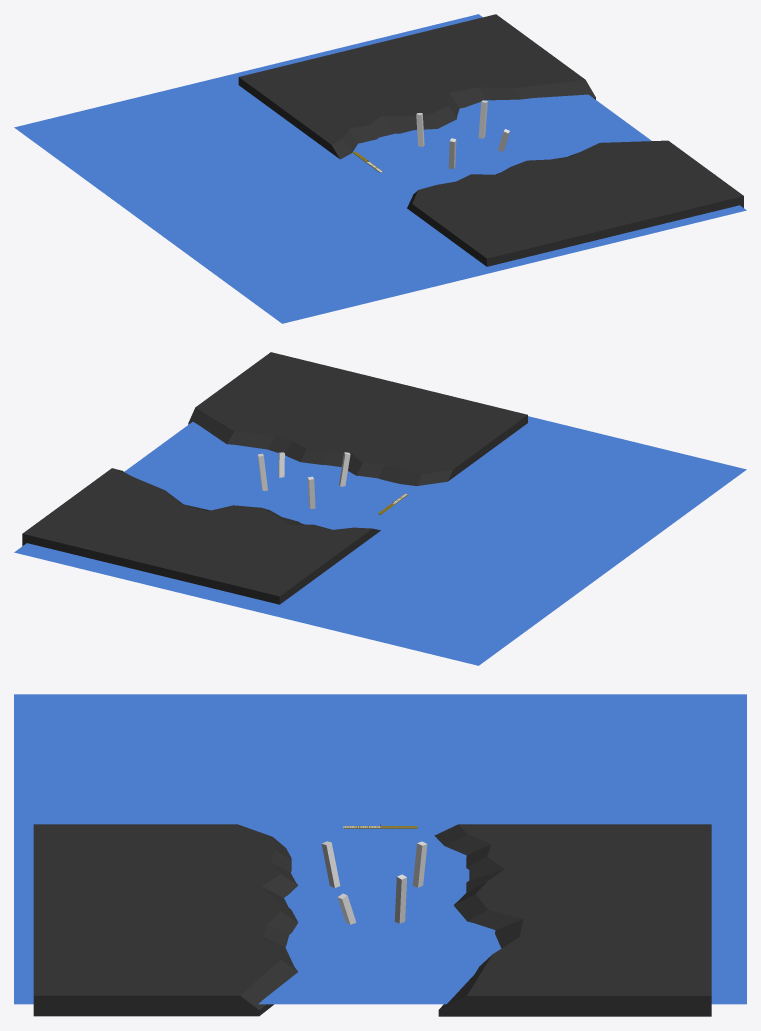
Rendered from stage3.glb.
The picture shows the model from 3 angles, top to bottom: view 1: azimuth 30°, elevation 25°; view 2: azimuth 150°, elevation 25°; view 3: azimuth 270°, elevation 25°; orthographic projection. The views are drawn at different scales.
Visible parts, largest first — view 1: Plane, Cube.006, Cube.007; view 2: Plane, Cube.007, Cube.006; view 3: Plane, Cube.007, Cube.006.
Part boxes in pixels (<box>): Plane: <box>14,14,746,323</box>; Cube.006: <box>238,14,595,159</box>; Cube.007: <box>407,140,743,266</box>; Plane: <box>14,416,746,665</box>; Cube.007: <box>188,352,527,485</box>; Cube.006: <box>22,468,380,604</box>; Plane: <box>14,694,746,1004</box>; Cube.007: <box>33,824,298,1016</box>; Cube.006: <box>434,824,711,1016</box>.
Size of the model in its own units: 1010 by 127 by 1000.
Materials: 5 (1 with a texture image).
